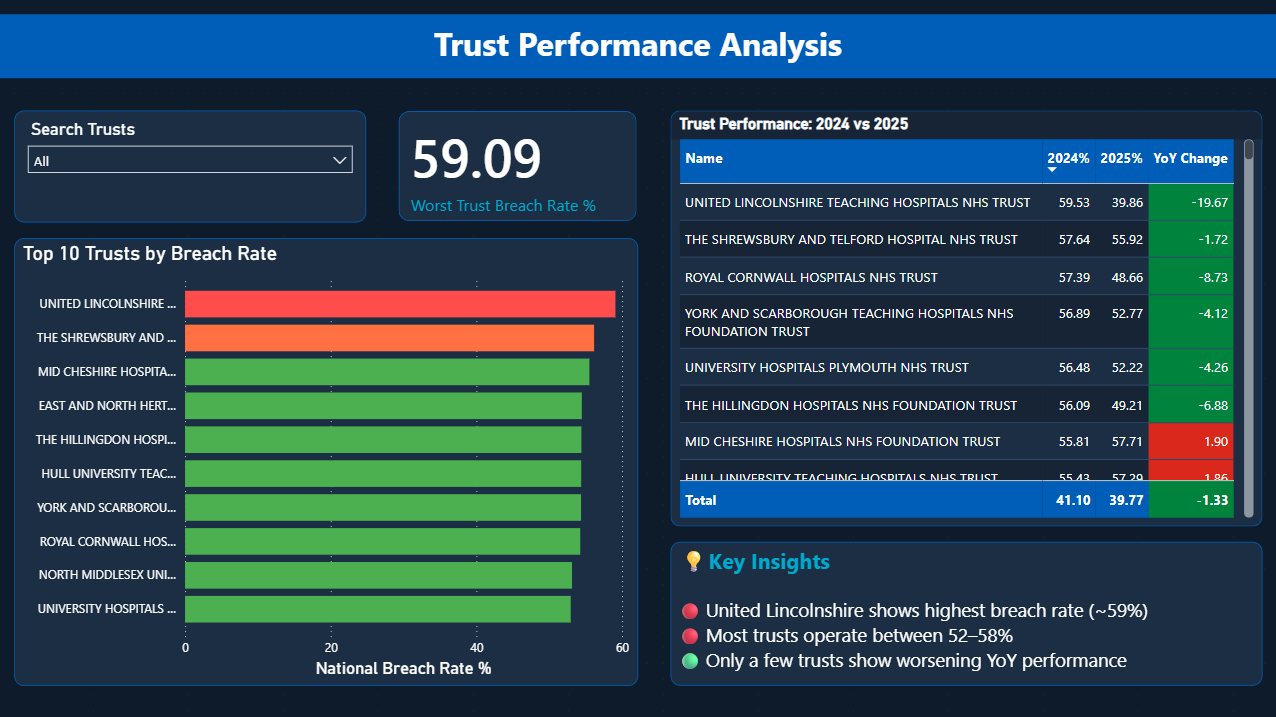

The page's visual inventory and layout, read from the dashboard file:
{"tool":"powerbi","page":{"name":" Trust Comparison","canvas":[1280,720],"ordinal":1},"visuals":[{"type":"textbox","box":[0,16,1280,64],"z":0},{"type":"clusteredBarChart","title":"Top 10 Trusts by Breach Rate","fields":{"Y":["ae_performance.National Breach Rate %"],"Category":["ae_performance.org_name"]},"box":[16,240,624,448],"z":1000},{"type":"tableEx","title":" Trust Performance: 2024 vs 2025","fields":{"Values":["ae_performance.org_name","ae_performance.Breach Rate 2024","ae_performance.Breach Rate 2025","ae_performance.YoY Change"]},"box":[672,112,592,416],"z":2000},{"type":"textbox","title":"💡Key Insights","box":[672,544,592,144],"z":3000},{"type":"cardVisual","fields":{"Data":["ae_performance.Worst Trust Breach Rate"]},"box":[384,96,272,144],"z":4000},{"type":"slicer","fields":{"Values":["ae_performance.parent_org"]},"box":[16,112,352,112],"z":5000}]}

Visuals, with their boxes in screenshot pixels (x1, y1, x2, y2), scaled from the page's 1280x720 canvas onto the 1276x717 screenshot:
textbox: 0:16:1275:80
"Top 10 Trusts by Breach Rate" clusteredBarChart: 16:239:638:685
" Trust Performance: 2024 vs 2025" tableEx: 670:112:1260:526
"💡Key Insights" textbox: 670:542:1260:685
cardVisual - ae_performance.Worst Trust Breach Rate: 383:96:654:239
slicer - ae_performance.parent_org: 16:112:367:223
